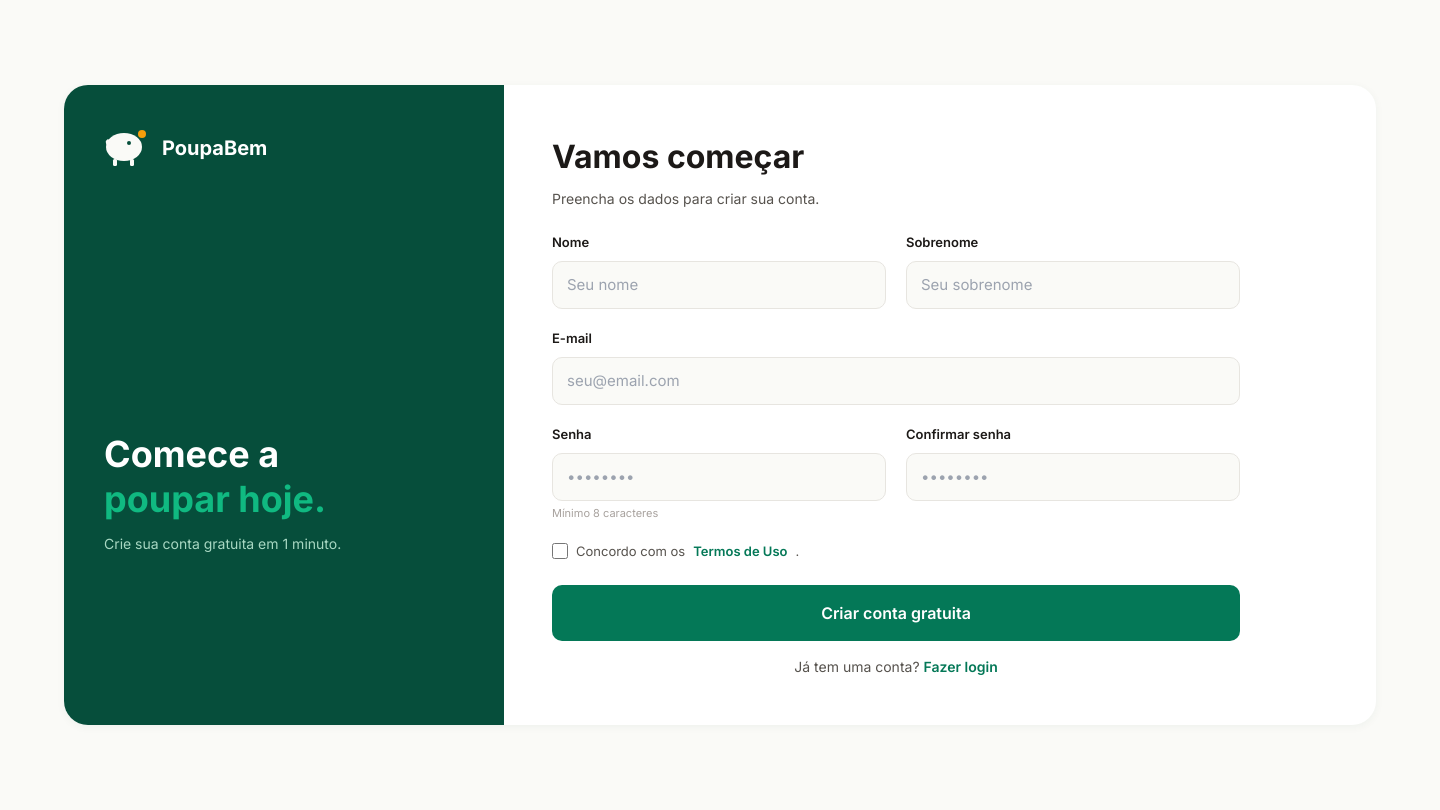
Test: Cadastro (integração) › exibe erro do backend quando o e-mail já está em uso
The image size is (1440, 810).
Step 1. Type "Ana" into the field with placeholder "Seu nome" → {"x": 719, "y": 285}, box 552,260 -> 886,309
Step 2. Type "Silva" into the field with placeholder "Seu sobrenome" → {"x": 1073, "y": 285}, box 906,260 -> 1240,309
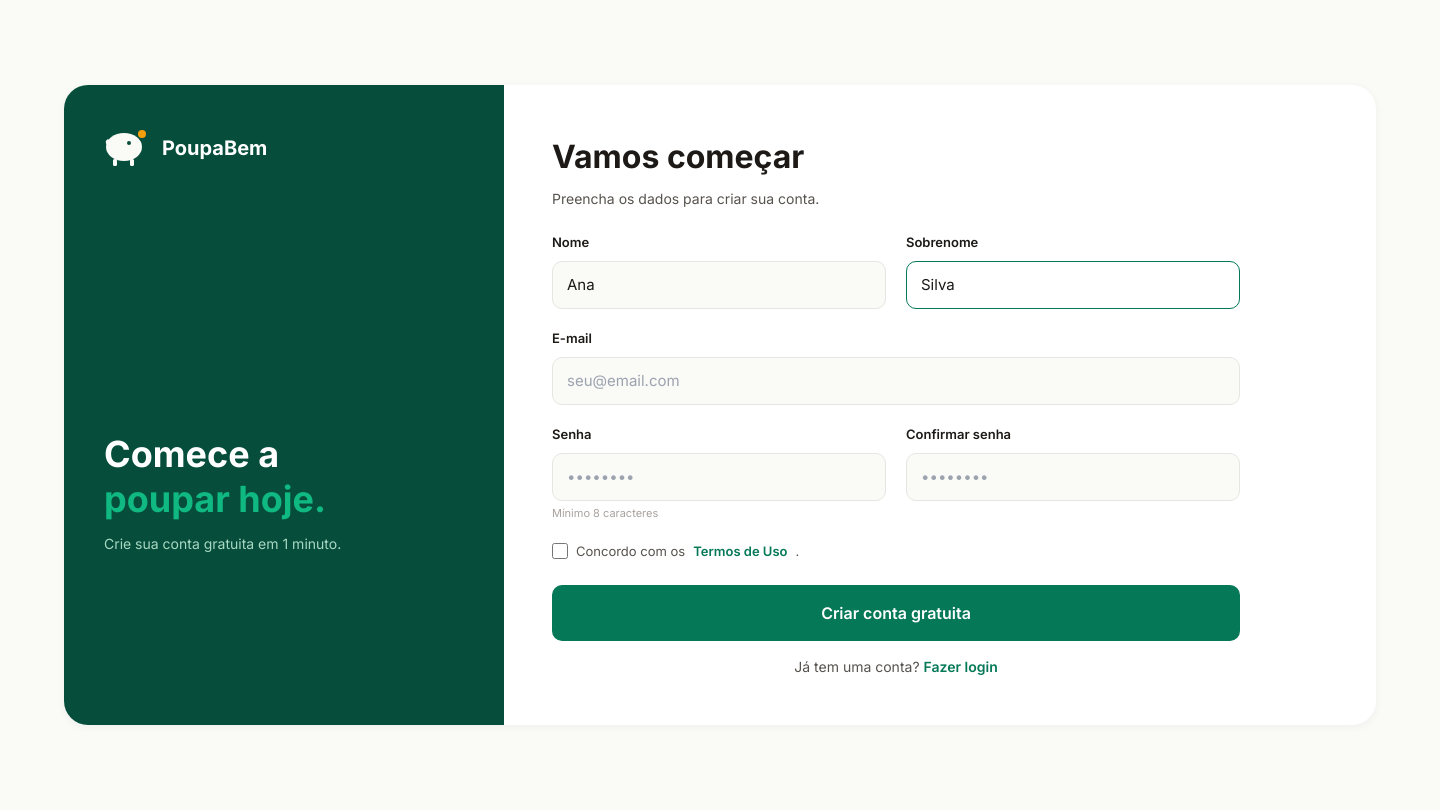
Step 3. Type "ana@test.com" into the field with placeholder "seu@email.com" → {"x": 896, "y": 381}, box 552,356 -> 1240,405
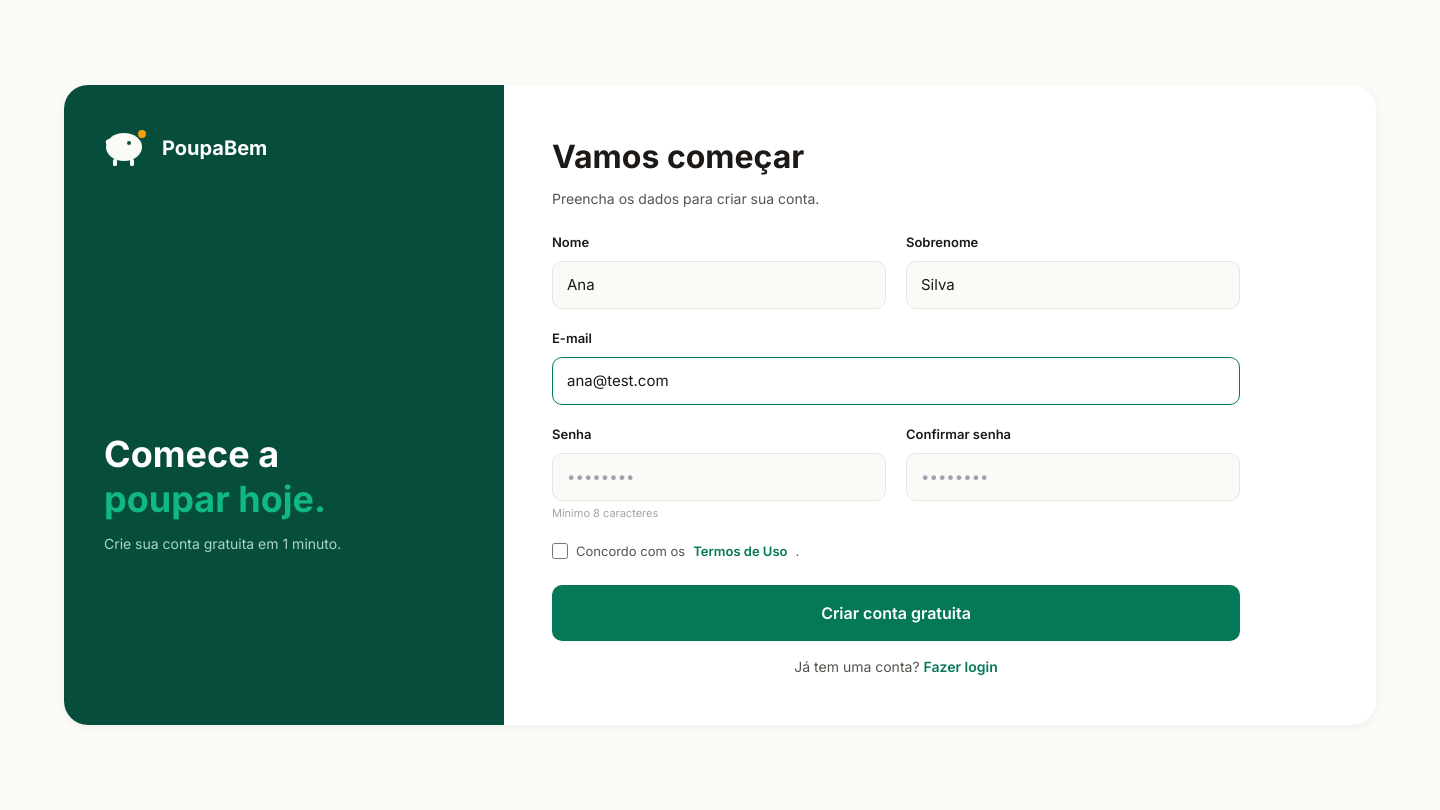
Step 4. Type "Senha@123" into the 1st password field with placeholder "••••••••" → {"x": 719, "y": 477}, box 552,452 -> 886,501
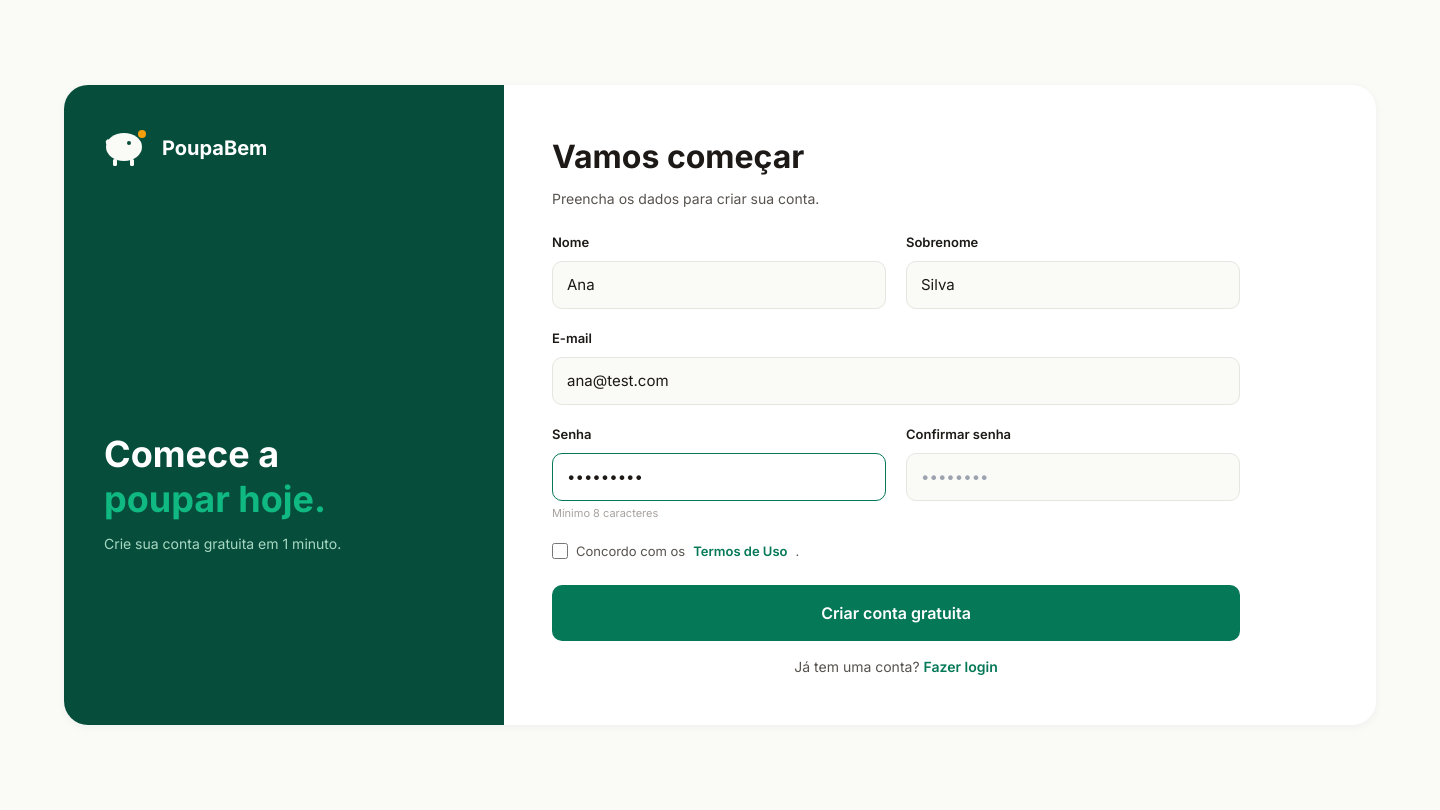
Step 5. Type "Senha@123" into the password field with placeholder "••••••••" → {"x": 1073, "y": 477}, box 906,452 -> 1240,501
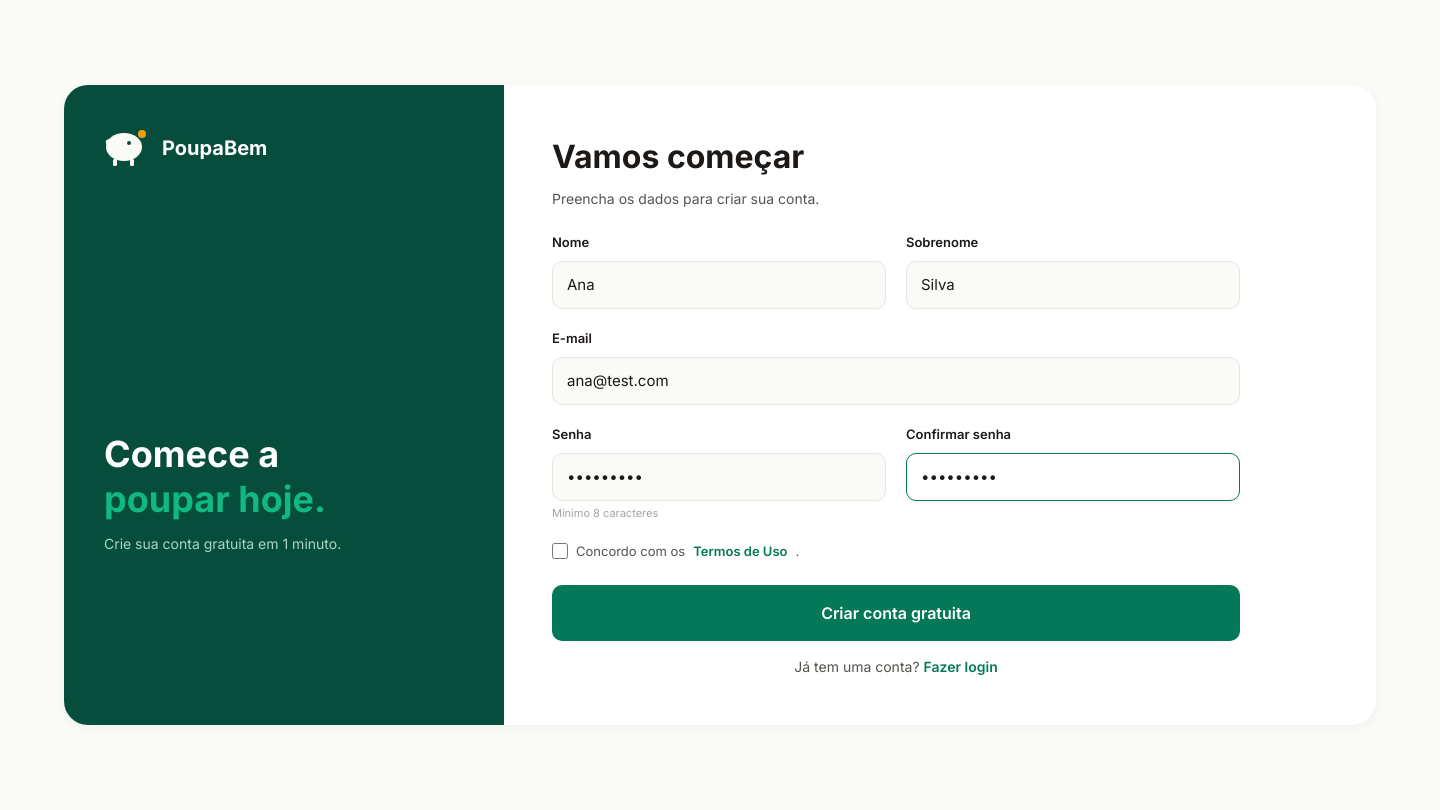
Step 6. Click the checkbox → {"x": 560, "y": 551}, box 552,543 -> 568,559
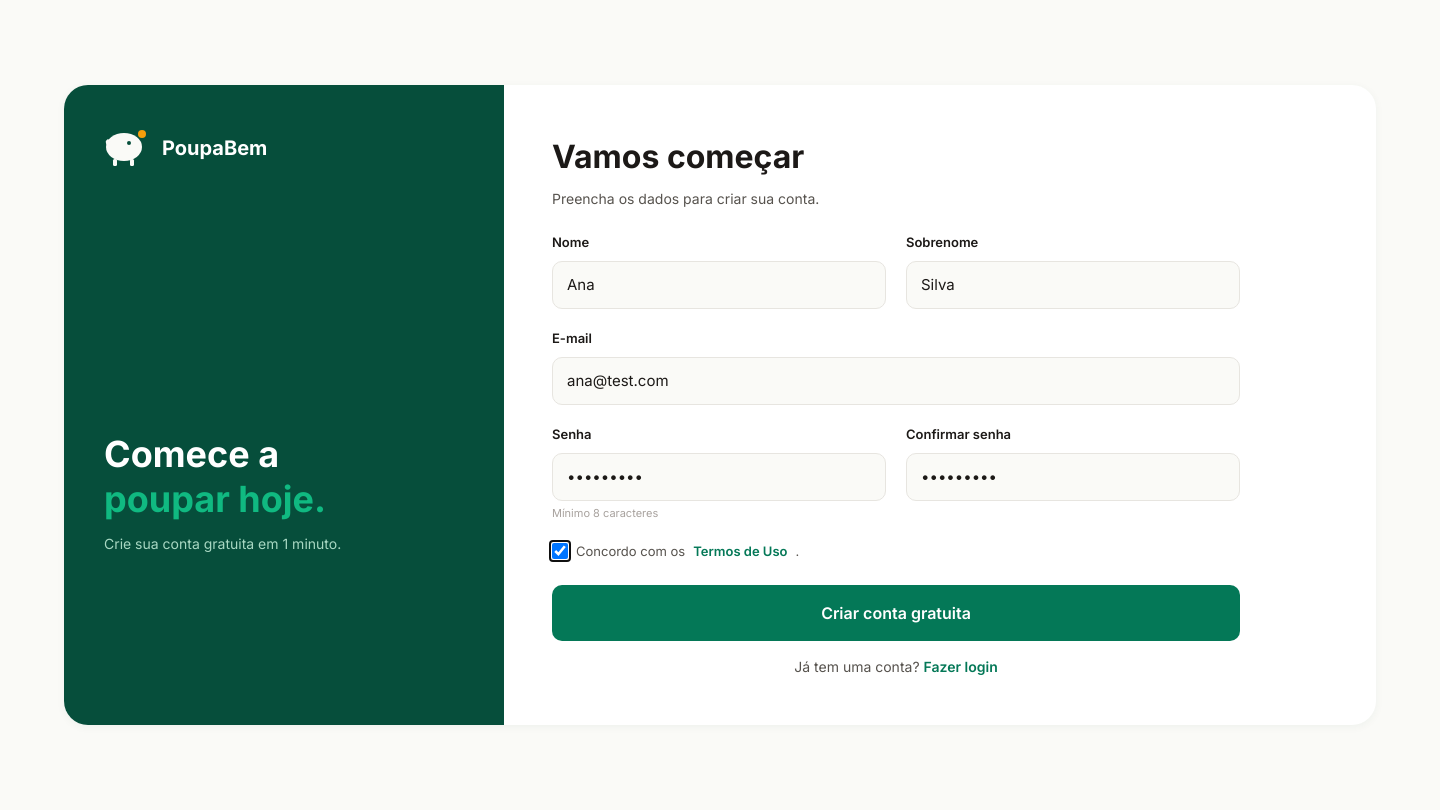
Step 7. Click the button "Criar conta gratuita" → {"x": 896, "y": 613}, box 552,585 -> 1240,641
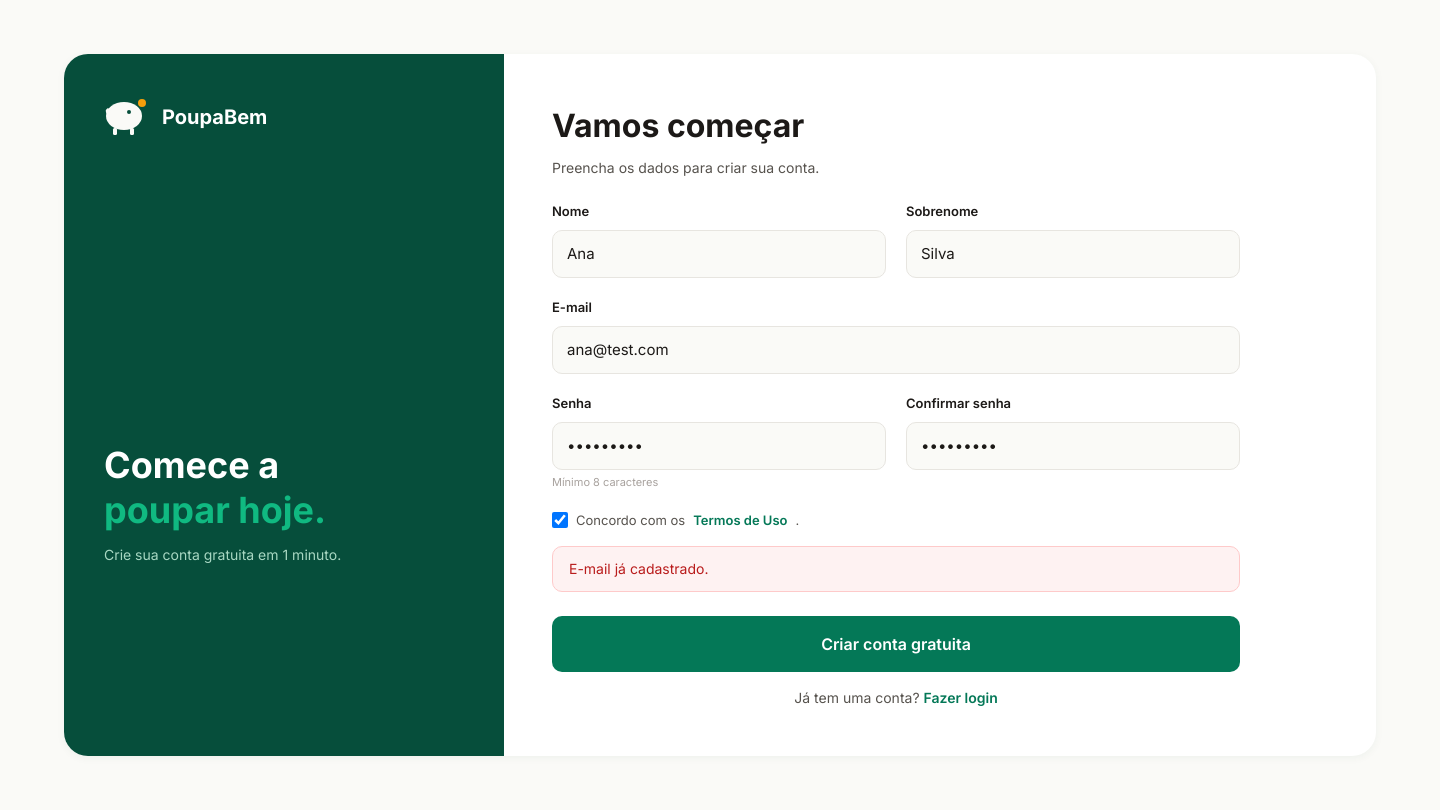
Expected: the text "E-mail já cadastrado." is shown, 552,546 -> 1240,592
